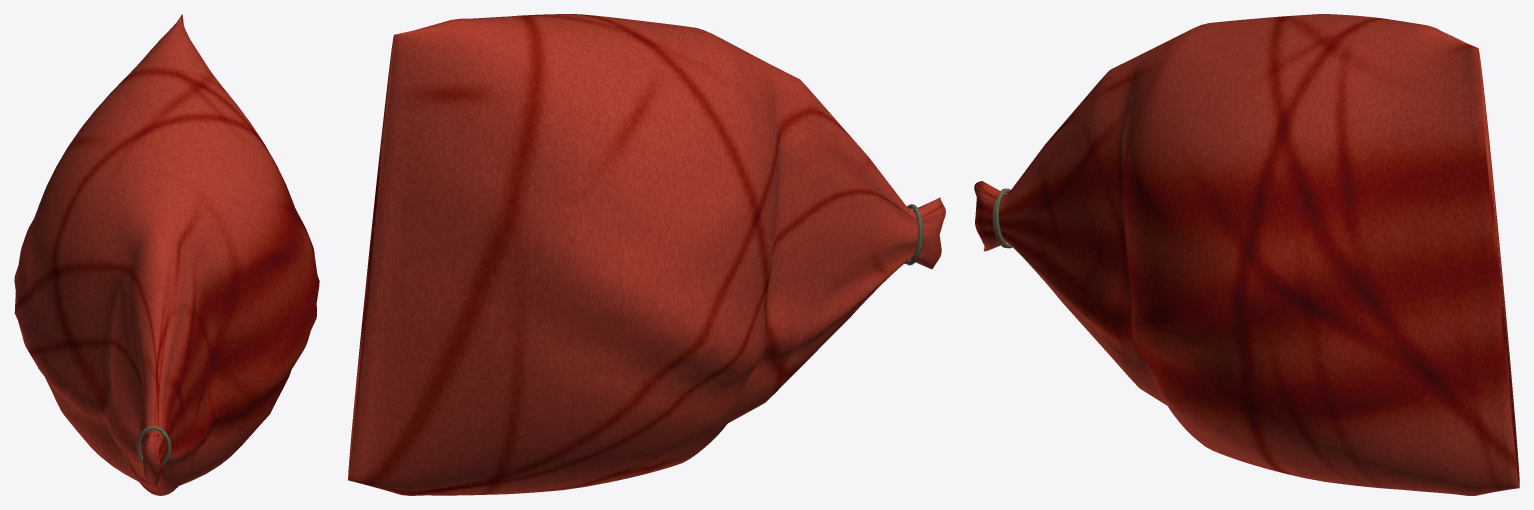
The model's file is peach_01_025.glb.
3 renders of one model, left to right at view 1: azimuth 30°, elevation 25°; view 2: azimuth 150°, elevation 25°; view 3: azimuth 270°, elevation 25°, orthographic. The views are drawn at different scales.
Parts seen in each view (by area): view 1: export_Tree01/shoot1_10_1/bag, export_Tree01/shoot1_10_1/bag/tie; view 2: export_Tree01/shoot1_10_1/bag; view 3: export_Tree01/shoot1_10_1/bag.
Boxes of the visible parts, x1,y1,x2,y2 form: export_Tree01/shoot1_10_1/bag: (14,14,319,495); export_Tree01/shoot1_10_1/bag/tie: (136,425,171,465); export_Tree01/shoot1_10_1/bag: (348,14,945,495); export_Tree01/shoot1_10_1/bag: (974,14,1519,495).
Bounding box in the file's own units: 0.0994 × 0.1293 × 0.136.
4 materials, 1 textured.
